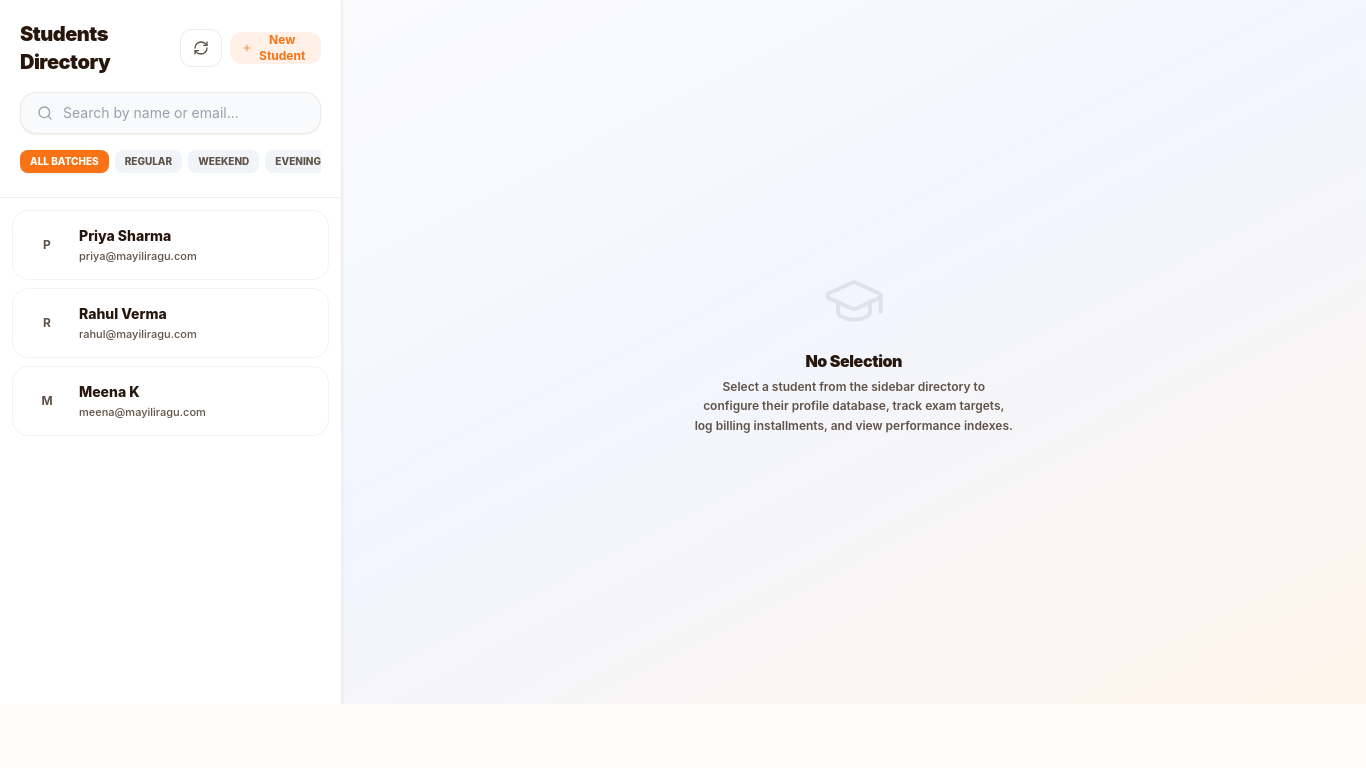
Test: StudentManagementPage › validates the student form fields
Click the button "New Student": (275, 48) top-left (230, 32), bottom-right (320, 64)
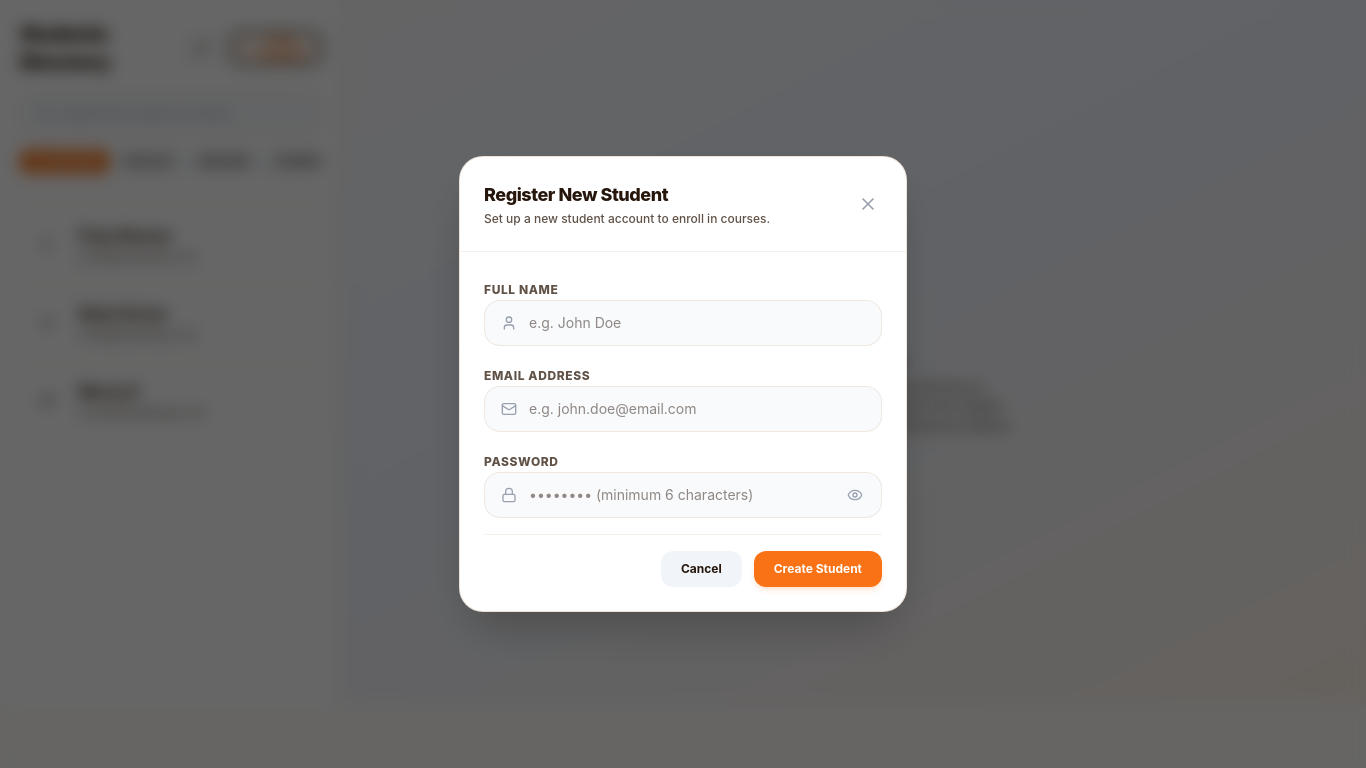
Submit the form, box top-left (460, 252), bottom-right (906, 611)
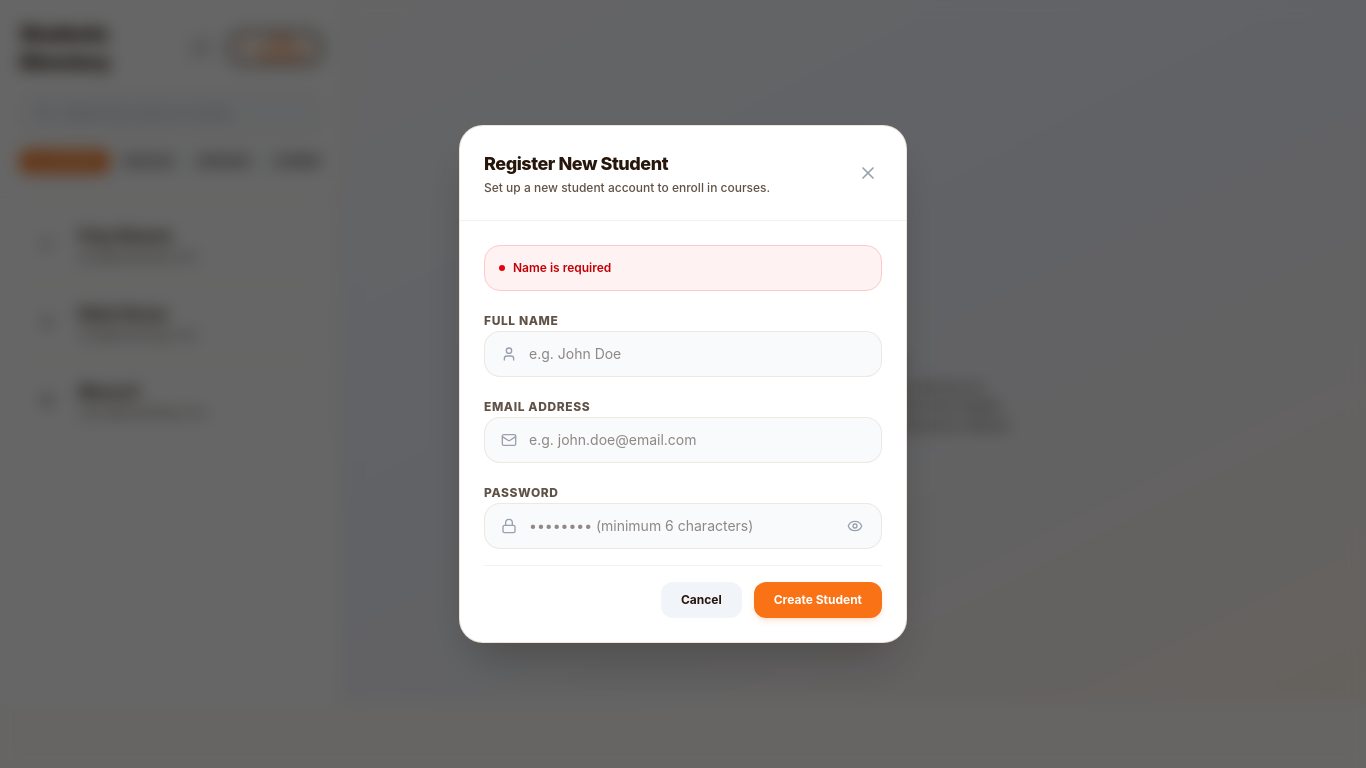
Result: the text "Name is required" is shown at top-left (513, 260), bottom-right (611, 276)
